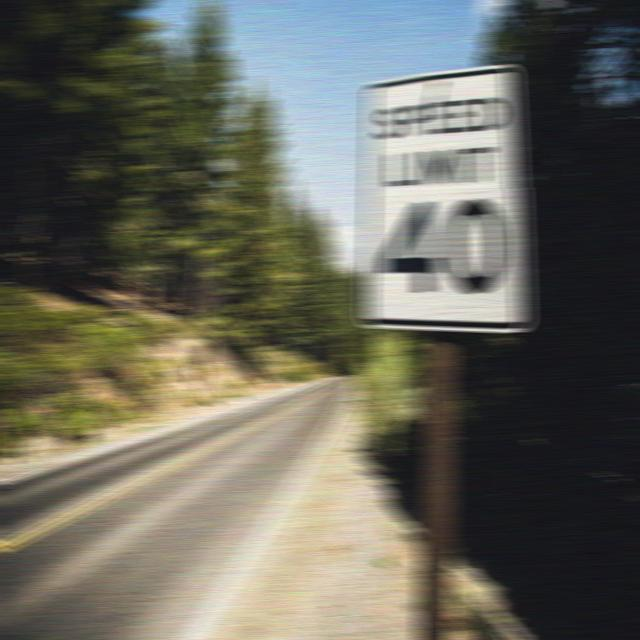speedLimit40: (355, 83, 546, 333)
